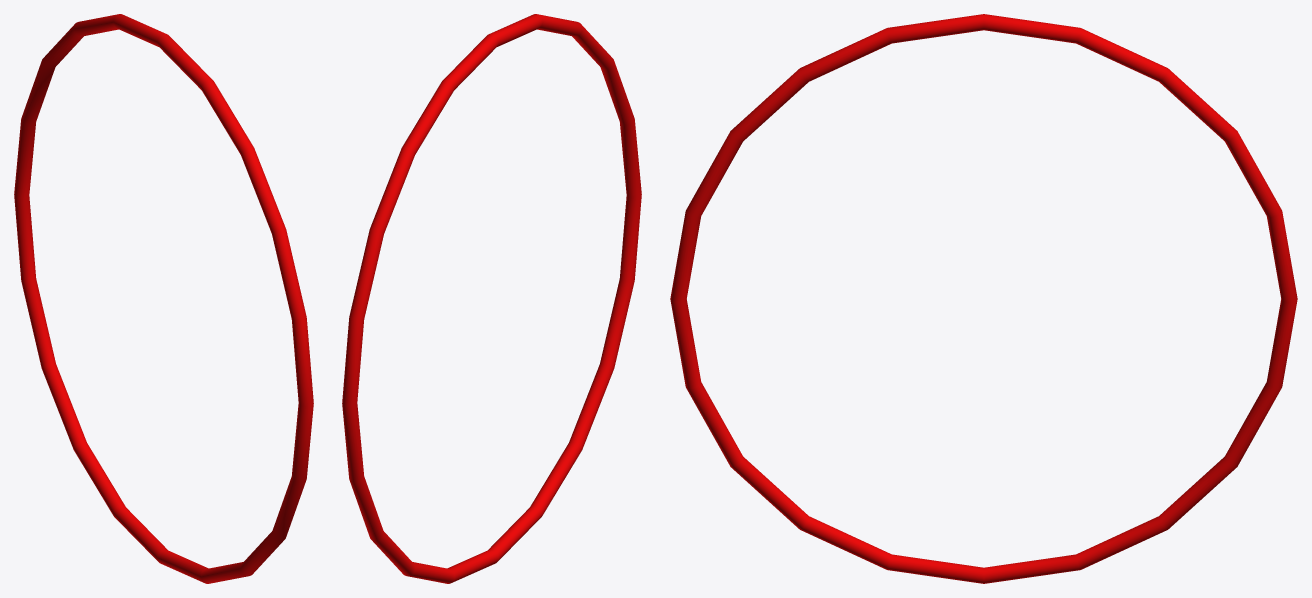
The model's file is RotatePitch.fbx.
3 views of the same model, side by side, from view 1: azimuth 30°, elevation 25°; view 2: azimuth 150°, elevation 25°; view 3: azimuth 270°, elevation 25° (orthographic). The views are drawn at different scales.
Parts seen in each view (by area): view 1: pTorus2; view 2: pTorus2; view 3: pTorus2.
Boxes of the visible parts, x1,y1,x2,y2 form: pTorus2: (14, 14, 313, 583); pTorus2: (342, 14, 641, 583); pTorus2: (670, 14, 1297, 583).
Size of the model in its own units: 0.0524 by 2 by 2.
